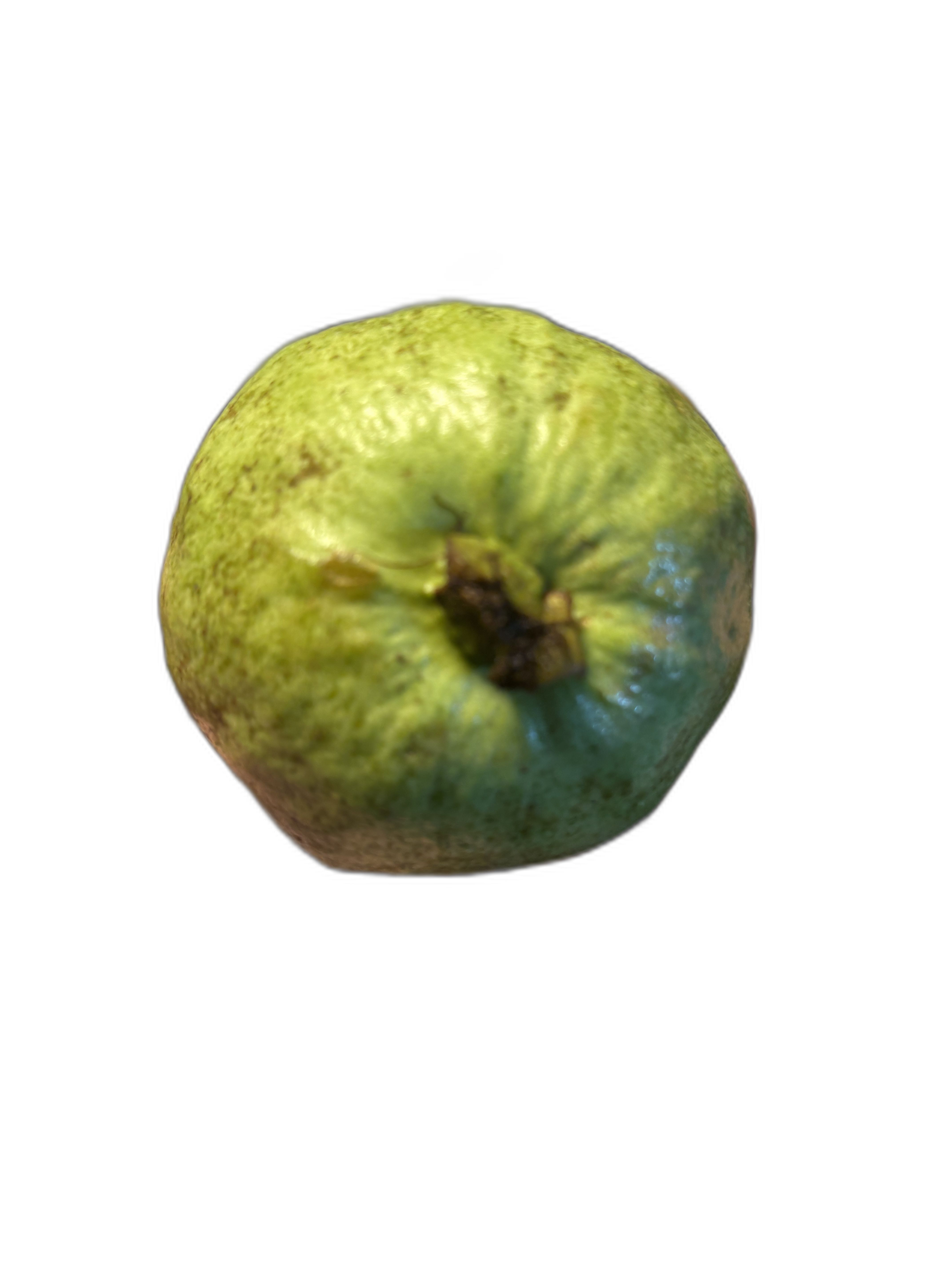guava: (185, 264, 825, 1153)
